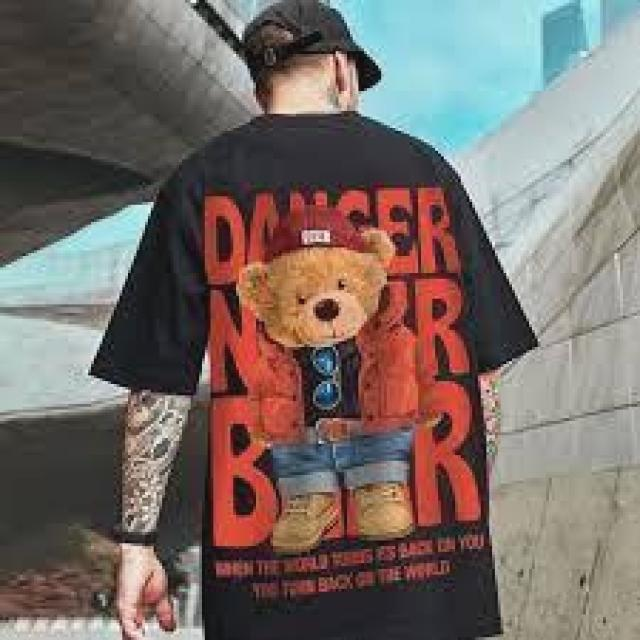Tshirt: (87, 108, 542, 640)
